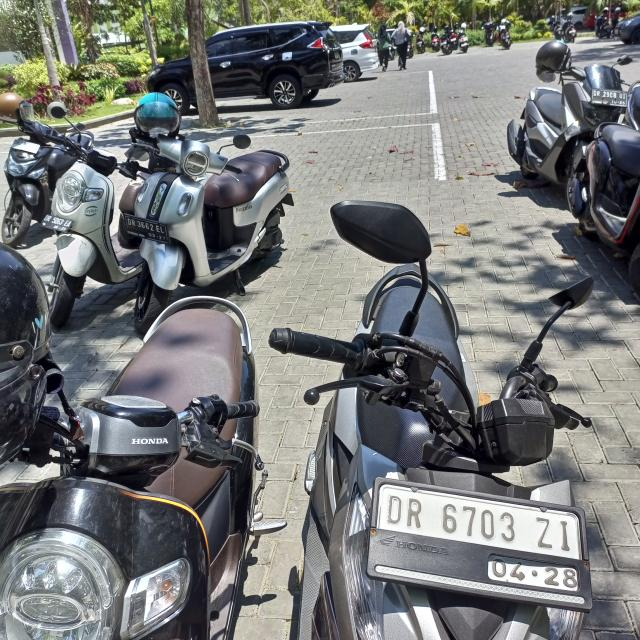plate: (376, 484, 582, 596), (123, 213, 170, 244), (592, 88, 629, 107)
